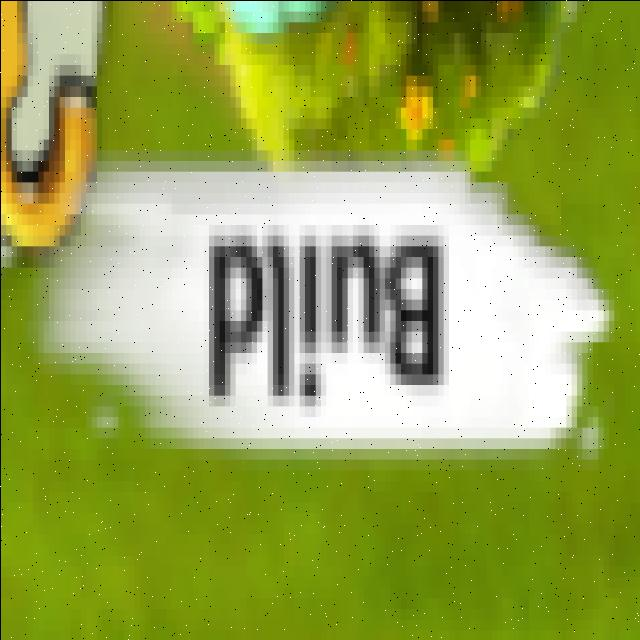build: (194, 196, 462, 430)
